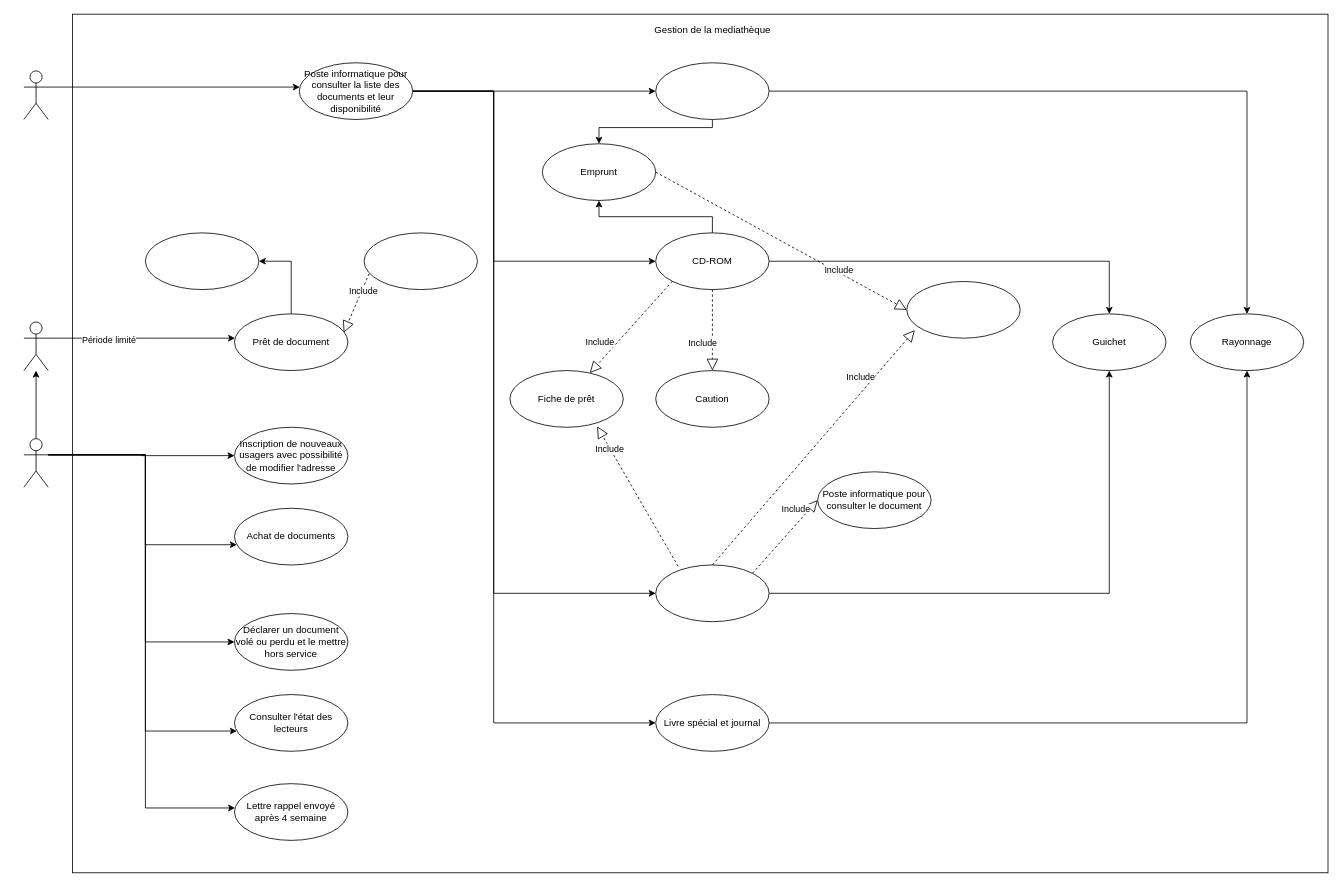
Some shapes in this 1342 by 887 pixel diagram are drawn without their labels. The box of each missing label's shape, as (x1, y1, x2, y2) in pixels:
Bénévole: (23, 321, 48, 371)
Carte de lecteur et moins de 5 emprunts: (906, 281, 1020, 338)
Enregistrement et date de l'emprunt (côte + numéro client): (145, 232, 259, 290)
Livre: (655, 62, 769, 119)
Microfilm: (655, 564, 769, 622)
Personnel: (23, 438, 48, 487)
Réglé sa cotisation et pas plus de 5 emprunts: (363, 232, 477, 290)
Usager: (23, 70, 48, 119)
